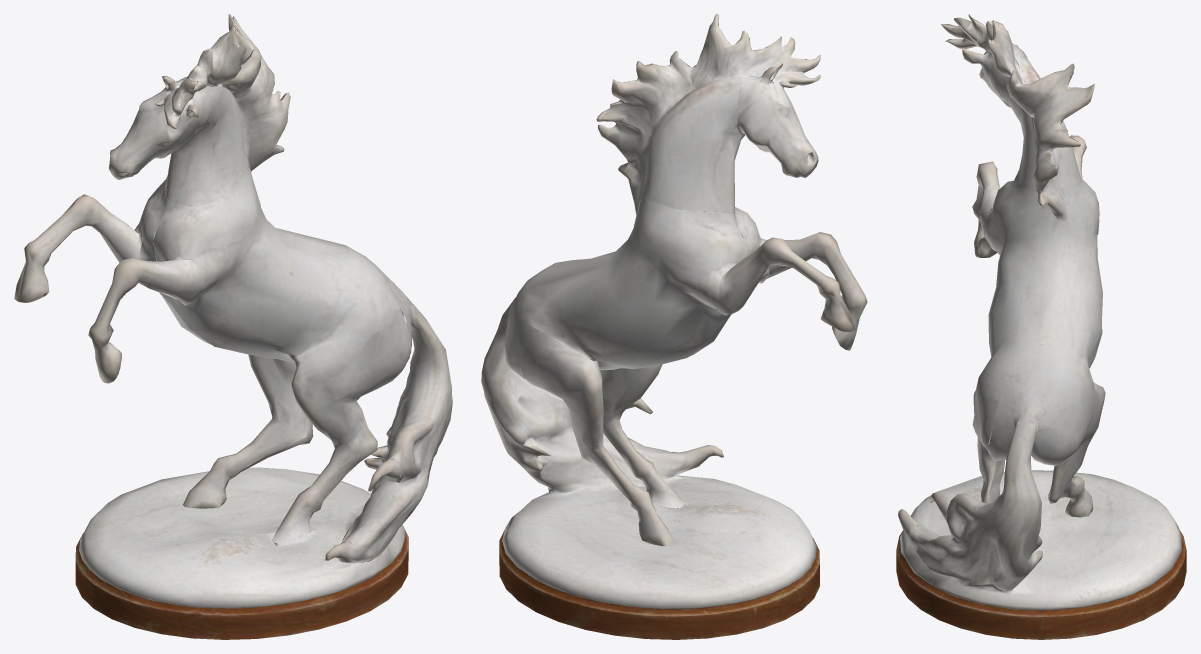
The model's file is horse_statue_01.gltf.
The picture shows the model from 3 angles, left to right: view 1: azimuth 30°, elevation 25°; view 2: azimuth 150°, elevation 25°; view 3: azimuth 270°, elevation 25°; orthographic projection. The views are drawn at different scales.
Parts seen in each view (by area): view 1: horse_statue_01; view 2: horse_statue_01; view 3: horse_statue_01.
Part boxes in pixels (x1,y1,x2,y2): horse_statue_01: (14, 14, 452, 639); horse_statue_01: (481, 14, 867, 639); horse_statue_01: (896, 14, 1186, 639).
Bounding box in the file's own units: 0.1638 × 0.2199 × 0.1078.
Materials: 2 (2 with a texture image).
